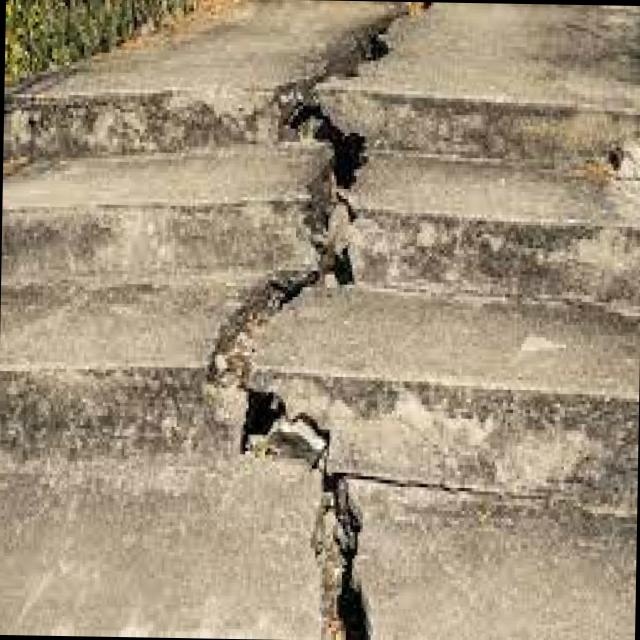crack: (194, 0, 430, 638)
